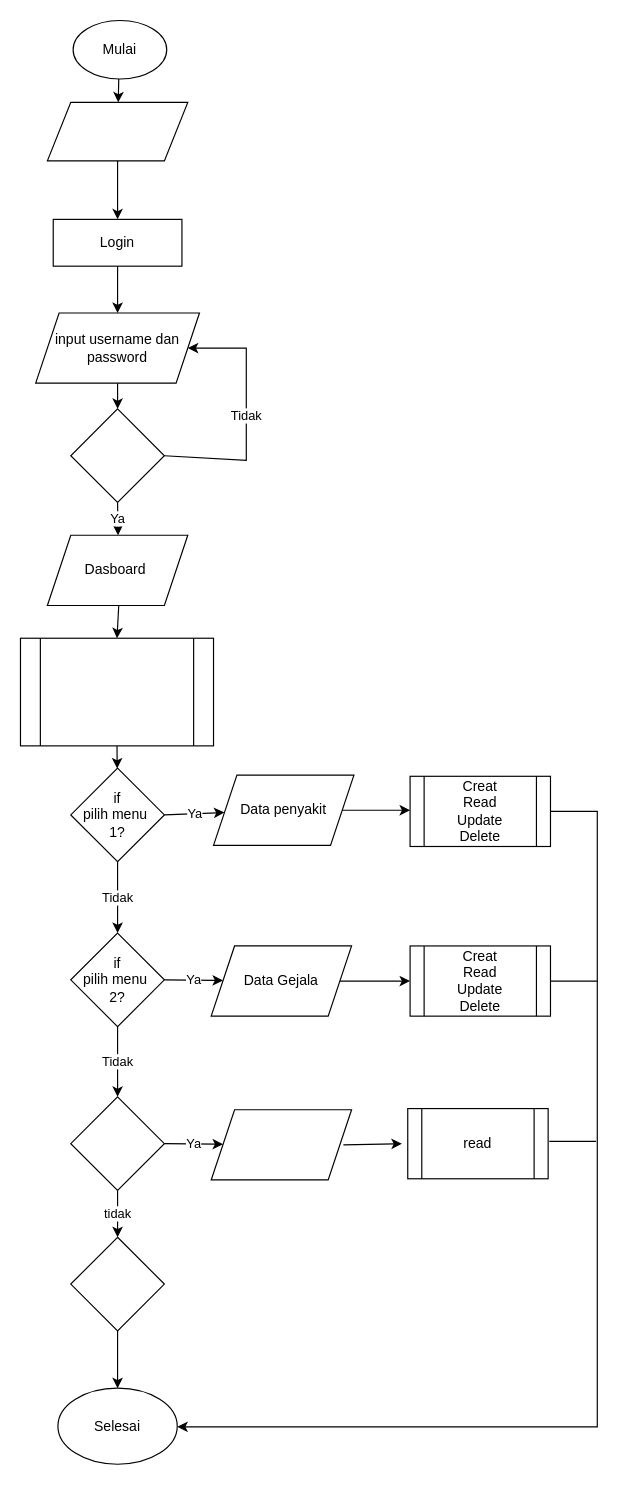
This 627x1485 diagram has some shape labels left out. The shapes that lost their labels are listed below. From the top down, each one's centre as x and y in pixels, then its label:
At (x=117, y=131): "halaman utama".
At (x=117, y=455): "validasi".
At (x=116, y=691): "pilih menu 1. menu data penyakit 2. menu data gejala 3. menu rule".
At (x=117, y=1143): "if pilih menu 3?".
At (x=281, y=1144): "Data rule".
At (x=117, y=1283): "logout".
